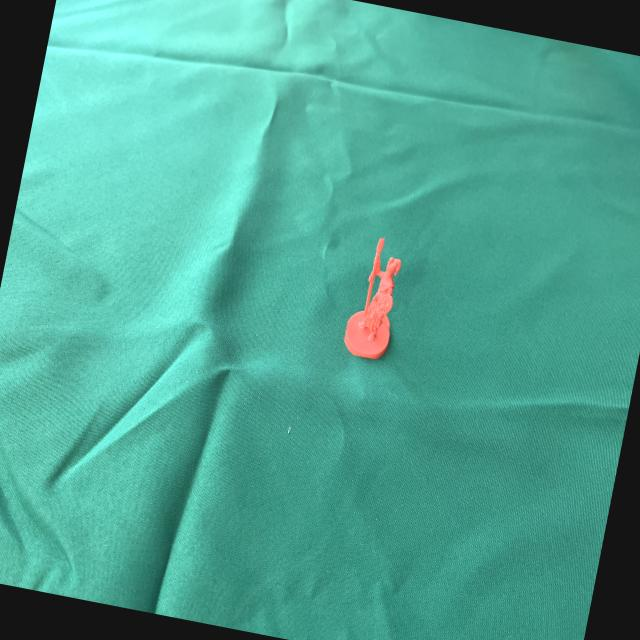amon_follower: (344, 238, 402, 360)
